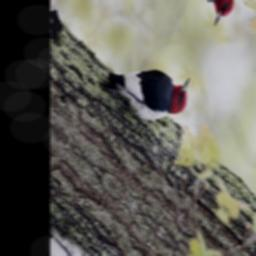Woodpecker: (102, 22, 197, 147)
